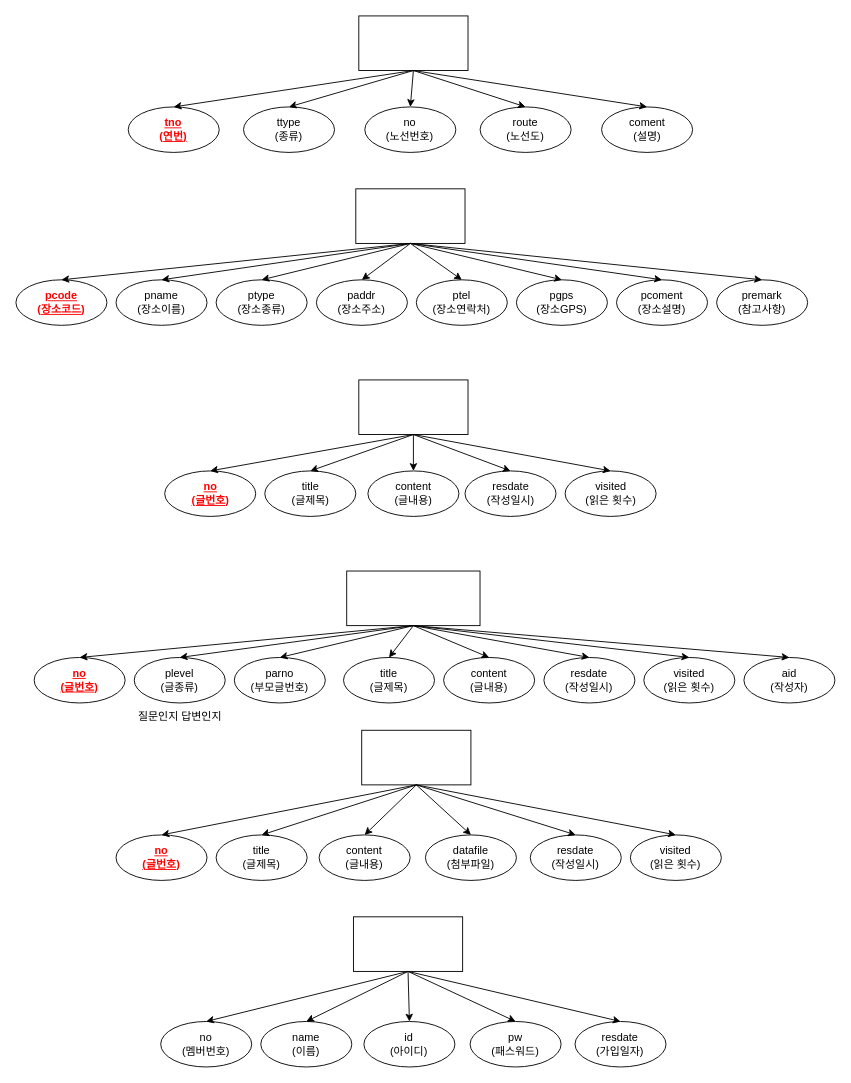
The diagram is 851 pixels wide and 1083 high, and some of its shapes have lost their labels. Here are the shapes that lost their labels. From the top down, the box of each, then its label:
(358, 15, 468, 71): traffic (교통편)
(355, 188, 465, 243): guide (안내사항)
(358, 379, 468, 435): notice (공지사항)
(346, 570, 480, 626): qna (묻고답하기)
(361, 729, 471, 785): data (자료실)
(353, 916, 463, 971): member (멤버)
